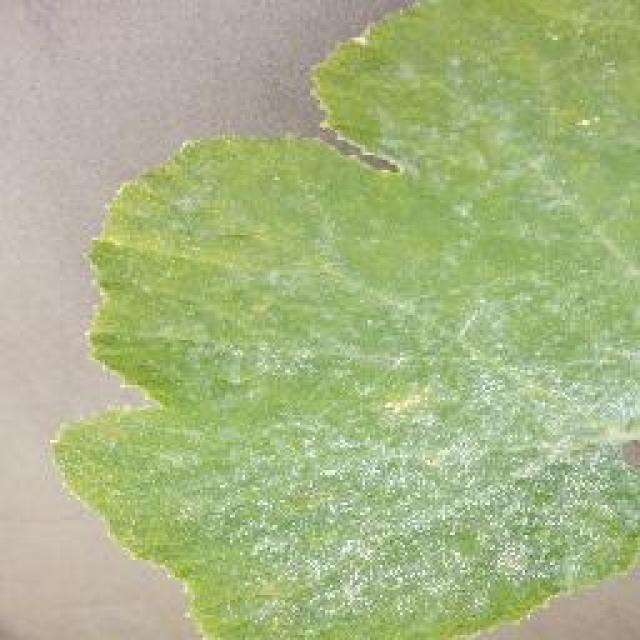Squ_Powdery_mildew: (148, 174, 596, 596)
